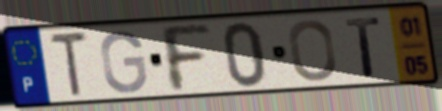0: (221, 20, 269, 90)
F: (155, 23, 215, 95)
G: (98, 28, 150, 96)
O: (286, 17, 339, 84)
T: (47, 30, 91, 100), (342, 15, 383, 79)
